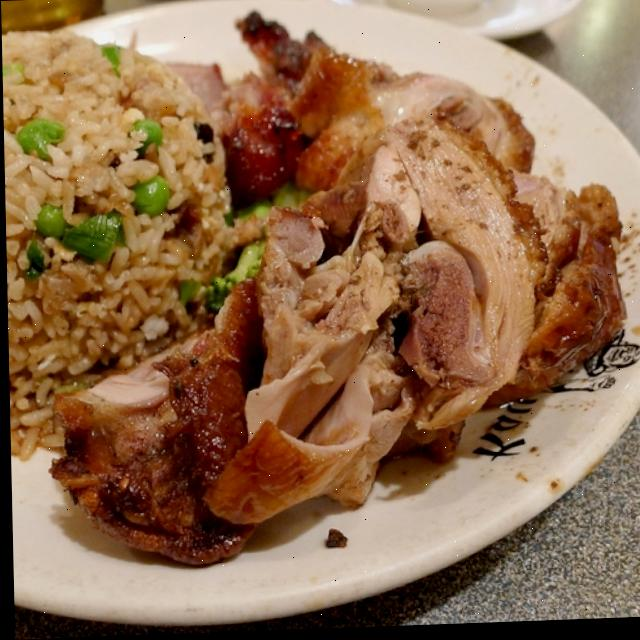米饭主食: (9, 4, 610, 589)
